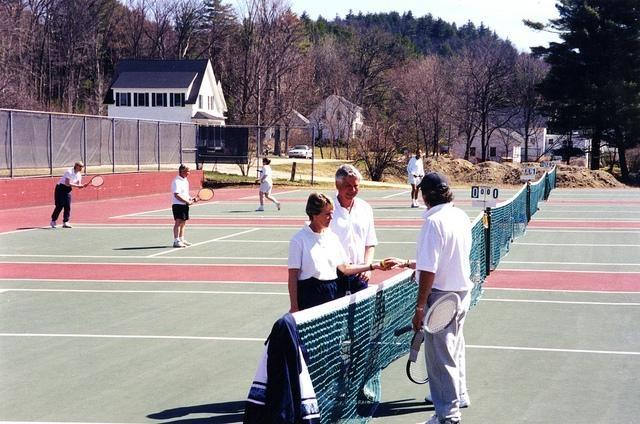car: (288, 145, 312, 159)
